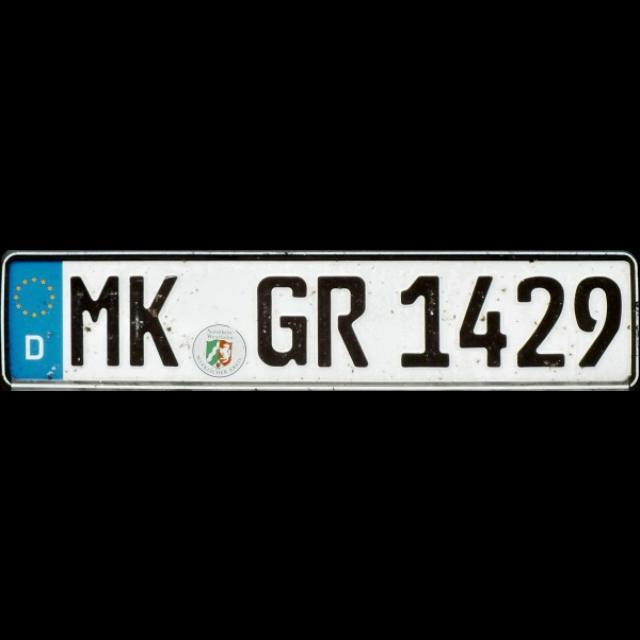license-plates: (2, 252, 640, 390)
